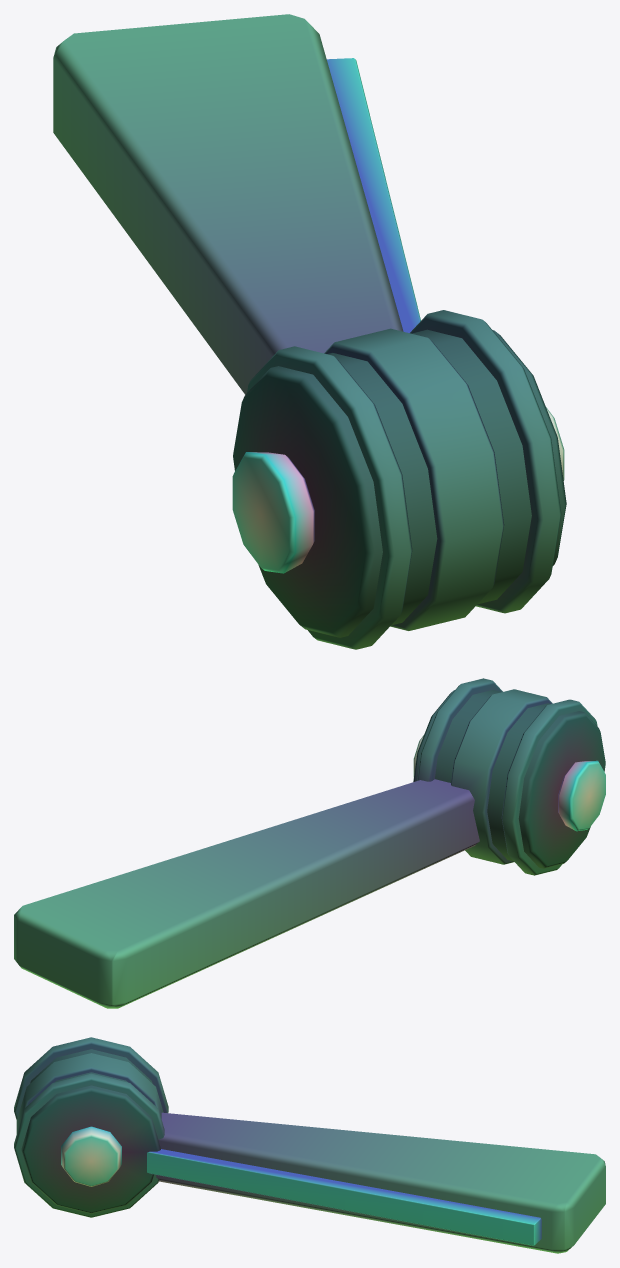
File: kit_boss_plasma_jaw_l.glb
The picture shows the model from 3 angles, top to bottom: view 1: azimuth 30°, elevation 25°; view 2: azimuth 150°, elevation 25°; view 3: azimuth 270°, elevation 25°; orthographic projection. The views are drawn at different scales.
Visible parts, largest first — view 1: Body__armor, Body__gunmetal, Body__dark, Body__chrome, Body__emit_core; view 2: Body__armor, Body__dark, Body__gunmetal, Body__chrome; view 3: Body__armor, Body__emit_core, Body__dark, Body__gunmetal, Body__chrome.
Boxes of the visible parts, x1,y1,x2,y2 form: Body__armor: (53, 14, 403, 394); Body__gunmetal: (247, 310, 561, 649); Body__dark: (233, 329, 566, 637); Body__chrome: (232, 407, 564, 573); Body__emit_core: (326, 58, 420, 332); Body__armor: (14, 779, 479, 1008); Body__dark: (413, 690, 605, 868); Body__gunmetal: (417, 678, 597, 875); Body__chrome: (413, 735, 605, 831); Body__armor: (156, 1112, 605, 1253); Body__emit_core: (147, 1149, 541, 1245); Body__dark: (21, 1049, 160, 1213); Body__gunmetal: (14, 1037, 168, 1217); Body__chrome: (61, 1126, 121, 1186).
Size of the model in its own units: 0.5341 by 0.2664 by 1.02.
